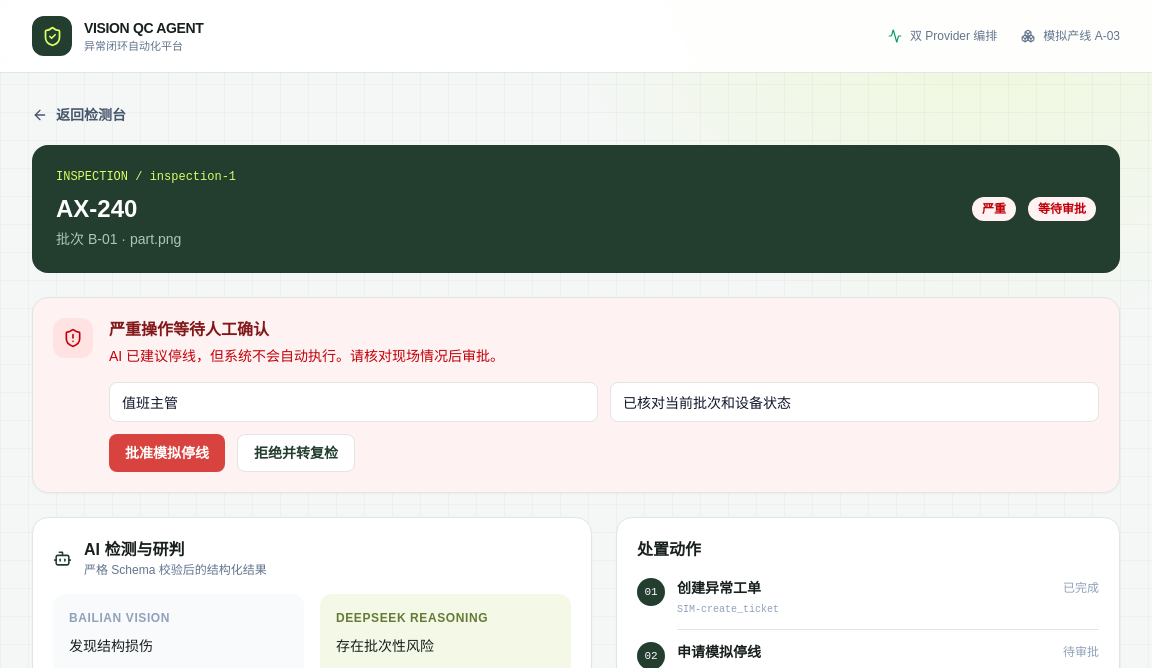
Test: inspection detail › updates the action list after human stop approval
Click the button "批准模拟停线": x=167, y=453 [109, 434, 225, 472]
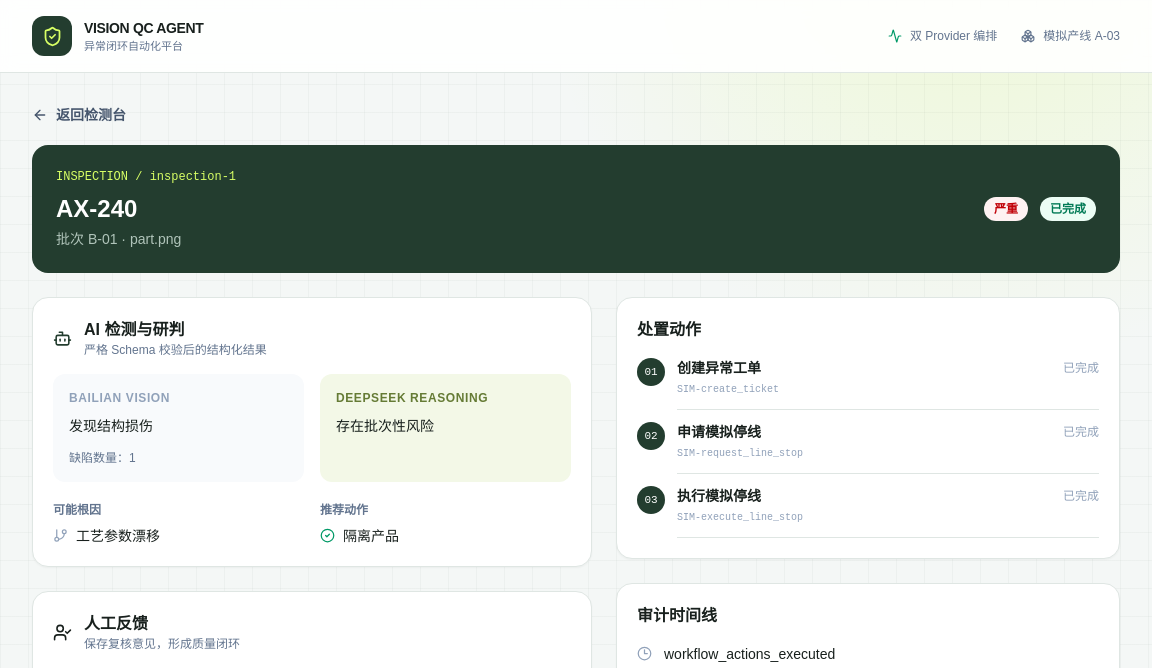
expect the text "执行模拟停线" is shown: met, box [677, 486, 761, 506]
